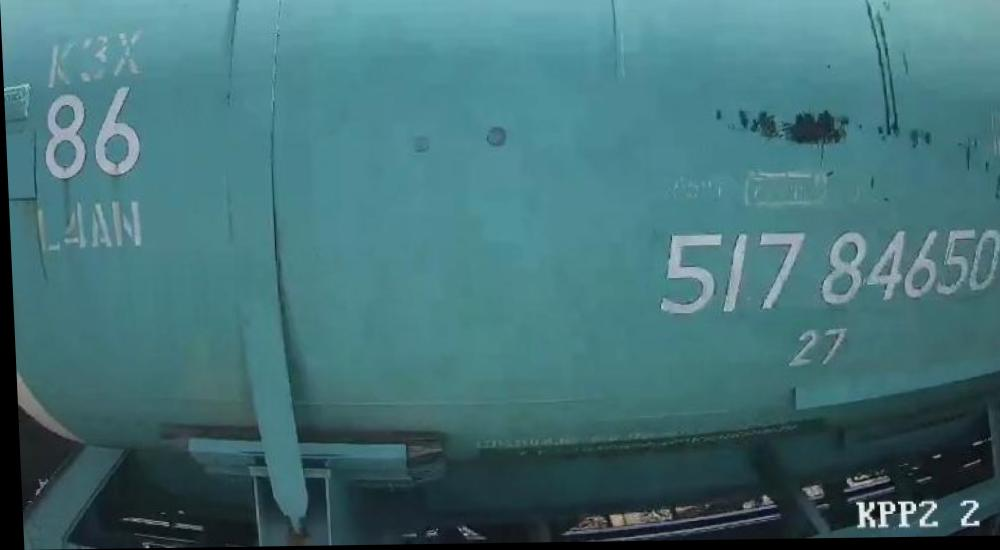Wagon-number: (650, 227, 1000, 322)
